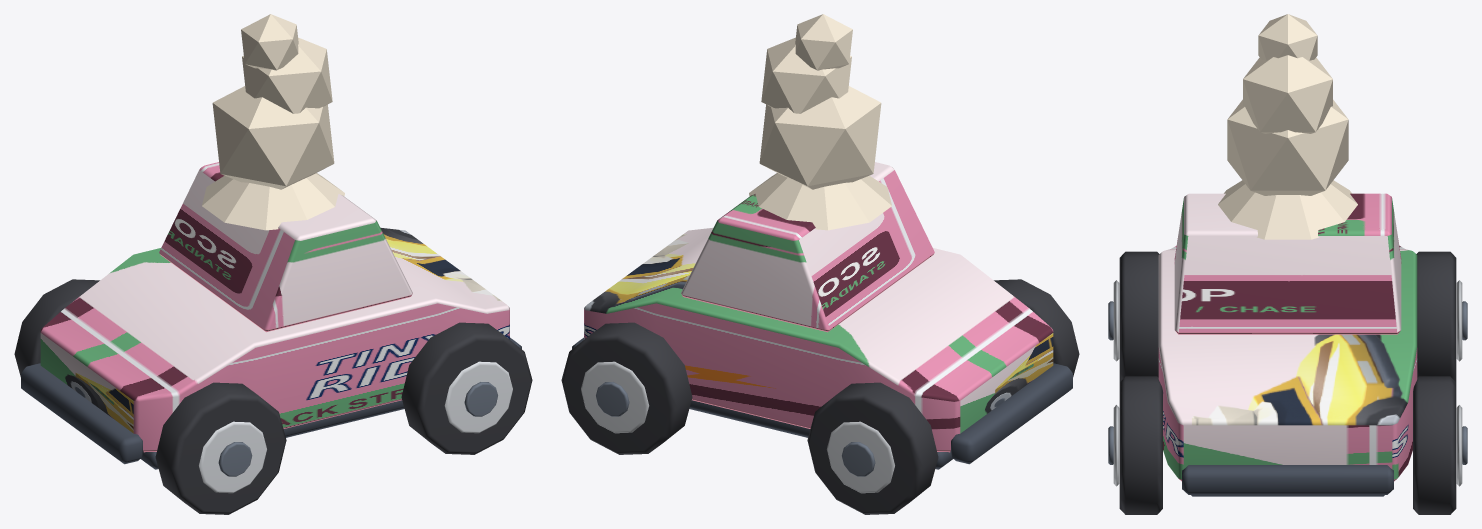
The picture shows the model from 3 angles, left to right: view 1: azimuth 30°, elevation 25°; view 2: azimuth 150°, elevation 25°; view 3: azimuth 270°, elevation 25°; orthographic projection. The views are drawn at different scales.
Parts seen in each view (by area): view 1: SS-01_connected_shell, SS-01_cabin, Tire, Tire.002, ice cream swirl 1, ice cream base, front bumper, ice cream swirl 2, Rim.002, Rim, ice cream swirl 3, Tire.001 (+3 smaller); view 2: SS-01_connected_shell, SS-01_cabin, Tire.001, Tire.003, ice cream swirl 1, ice cream base, front bumper, ice cream swirl 2, Rim.003, Rim.001, ice cream swirl 3, Tire (+3 smaller); view 3: SS-01_connected_shell, SS-01_cabin, ice cream swirl 1, rear bumper, Tire.002, Tire.003, ice cream swirl 2, ice cream base, Tire, Tire.001, ice cream swirl 3, Rim.002 (+3 smaller).
Part boxes in pixels (left/top/right/bottom): SS-01_connected_shell: left=40, top=227, right=509, bottom=452; SS-01_cabin: left=159, top=162, right=412, bottom=332; Tire: left=155, top=382, right=286, bottom=514; Tire.002: left=401, top=322, right=532, bottom=454; ice cream swirl 1: left=212, top=86, right=334, bottom=189; ice cream base: left=202, top=173, right=344, bottom=230; front bumper: left=21, top=363, right=143, bottom=464; ice cream swirl 2: left=242, top=37, right=332, bottom=113; Rim.002: left=444, top=361, right=512, bottom=433; Rim: left=199, top=421, right=266, bottom=493; ice cream swirl 3: left=241, top=14, right=298, bottom=70; Tire.001: left=14, top=279, right=99, bottom=376; SS-01_connected_shell: left=584, top=227, right=1053, bottom=452; SS-01_cabin: left=681, top=162, right=934, bottom=332; Tire.001: left=807, top=382, right=938, bottom=514; Tire.003: left=561, top=322, right=692, bottom=454; ice cream swirl 1: left=759, top=86, right=881, bottom=189; ice cream base: left=749, top=173, right=891, bottom=230; front bumper: left=950, top=363, right=1072, bottom=464; ice cream swirl 2: left=761, top=37, right=851, bottom=113; Rim.003: left=581, top=361, right=649, bottom=433; Rim.001: left=827, top=421, right=894, bottom=493; ice cream swirl 3: left=795, top=14, right=852, bottom=70; Tire: left=994, top=279, right=1079, bottom=376; SS-01_connected_shell: left=1158, top=246, right=1417, bottom=481; SS-01_cabin: left=1174, top=193, right=1401, bottom=334; ice cream swirl 1: left=1227, top=99, right=1348, bottom=195; rear bumper: left=1182, top=465, right=1393, bottom=494; Tire.002: left=1119, top=376, right=1162, bottom=514; Tire.003: left=1413, top=376, right=1456, bottom=514; ice cream swirl 2: left=1243, top=55, right=1332, bottom=133; ice cream base: left=1218, top=180, right=1357, bottom=239; Tire: left=1119, top=251, right=1159, bottom=381; Tire.001: left=1416, top=251, right=1456, bottom=381; ice cream swirl 3: left=1258, top=14, right=1317, bottom=60; Rim.002: left=1113, top=405, right=1119, bottom=486.
Bounding box in the file's own units: 293 × 287 × 217.
